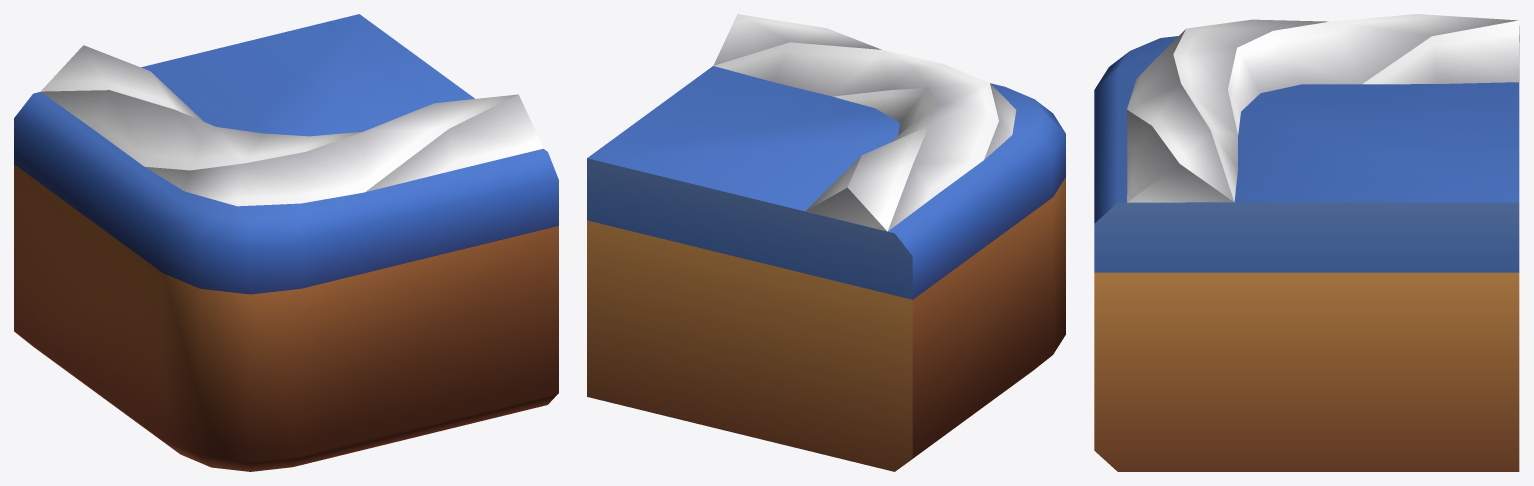
The model's file is m_SheetCake06_Slice01.fbx.
3 views of the same model, side by side, from view 1: azimuth 30°, elevation 25°; view 2: azimuth 150°, elevation 25°; view 3: azimuth 270°, elevation 25° (orthographic). The views are drawn at different scales.
Parts seen in each view (by area): view 1: m_SheetCake06_Slice01; view 2: m_SheetCake06_Slice01; view 3: m_SheetCake06_Slice01.
Boxes of the visible parts, x1=… form: m_SheetCake06_Slice01: x1=14, y1=14, x2=558, y2=471; m_SheetCake06_Slice01: x1=587, y1=14, x2=1065, y2=471; m_SheetCake06_Slice01: x1=1094, y1=14, x2=1519, y2=471.
Bounding box in the file's own units: 10.01 × 8 × 10.01.
